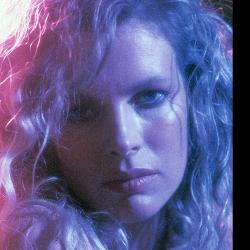face: (7, 5, 233, 225)
